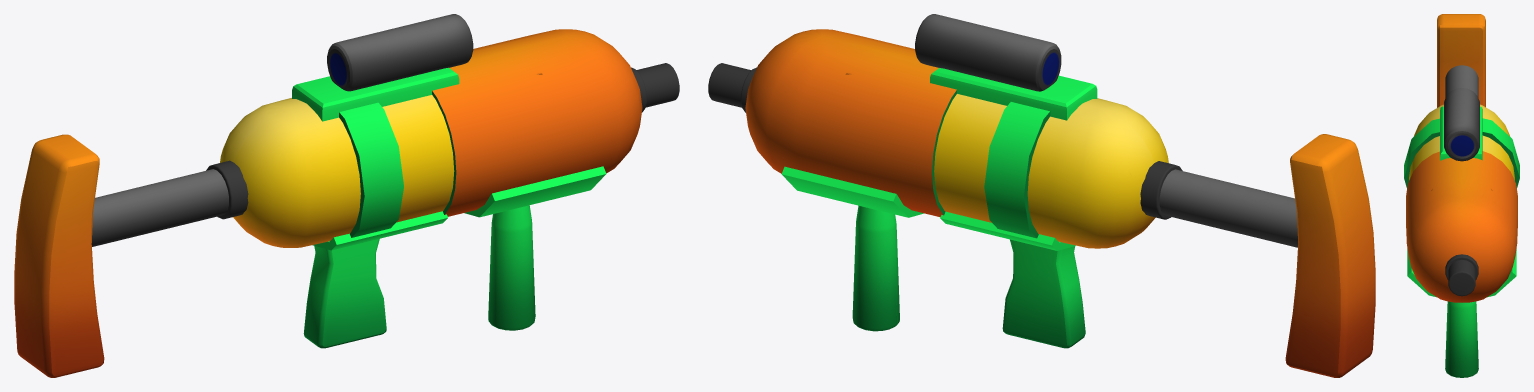
File: Водяная пушка.FBX
The picture shows the model from 3 angles, left to right: view 1: azimuth 30°, elevation 25°; view 2: azimuth 150°, elevation 25°; view 3: azimuth 270°, elevation 25°; orthographic projection. The views are drawn at different scales.
Visible parts, largest first — view 1: ChamferBox002; view 2: ChamferBox002; view 3: ChamferBox002.
Boxes of the visible parts, x1=… form: ChamferBox002: x1=14, y1=14, x2=679, y2=377; ChamferBox002: x1=708, y1=14, x2=1375, y2=377; ChamferBox002: x1=1404, y1=14, x2=1519, y2=377.
Bounding box in the file's own units: 3.46 × 1.64 × 0.7655.
